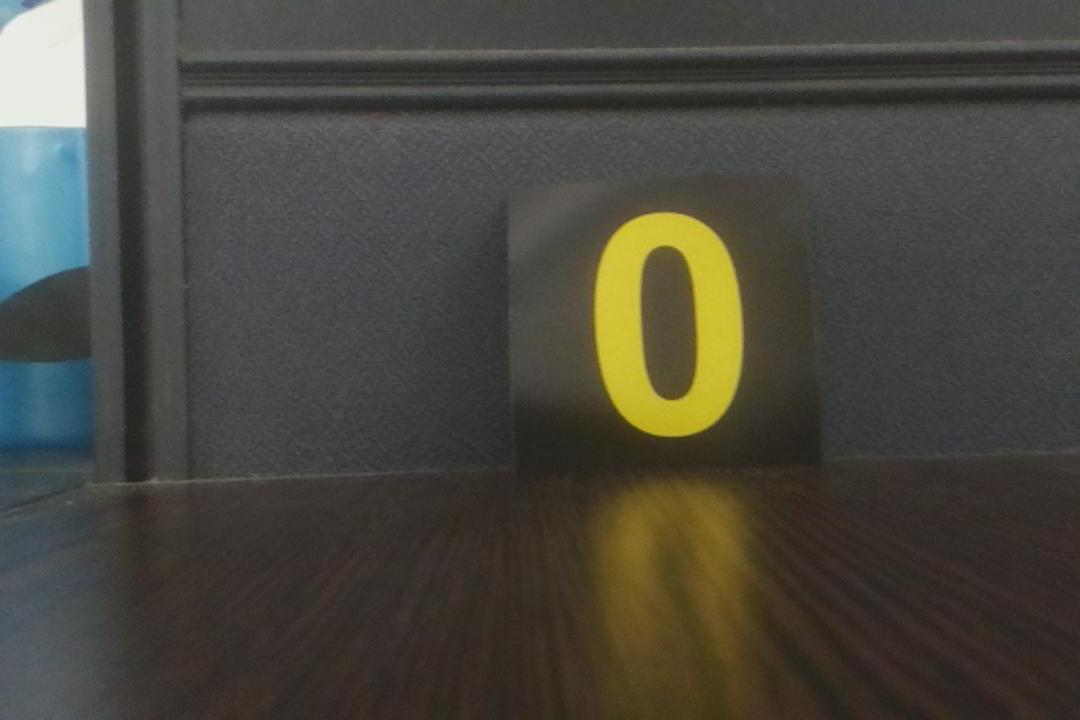zero: (508, 185, 815, 464)
